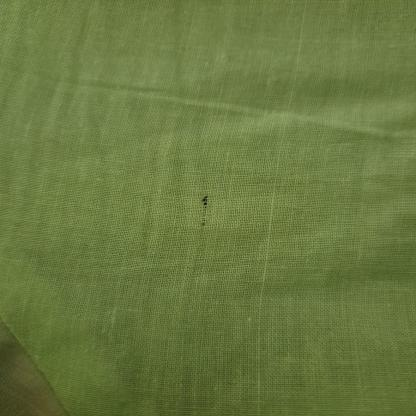spot: (194, 192, 212, 233)
